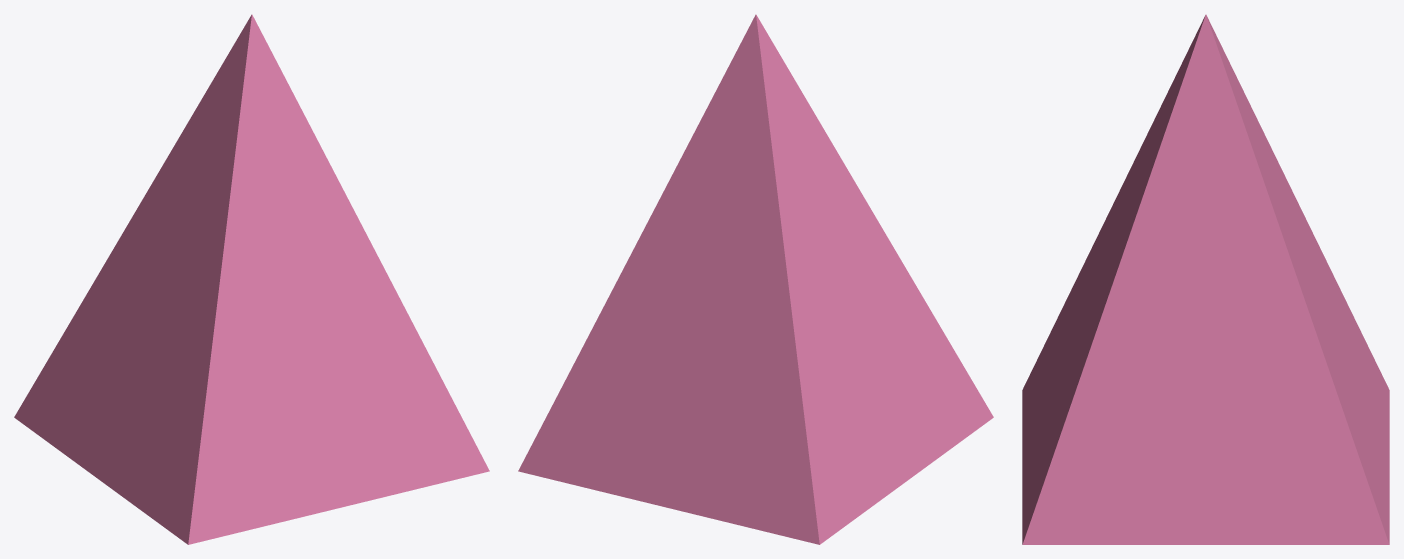
3 renders of one model, left to right at view 1: azimuth 30°, elevation 25°; view 2: azimuth 150°, elevation 25°; view 3: azimuth 270°, elevation 25°, orthographic. The views are drawn at different scales.
Visible parts, largest first — view 1: Конус; view 2: Конус; view 3: Конус.
Boxes of the visible parts, <box> form: Конус: <box>14,14,489,544</box>; Конус: <box>518,14,993,544</box>; Конус: <box>1022,14,1389,544</box>.
Bounding box in the file's own units: 1.41 × 1.93 × 1.41.
